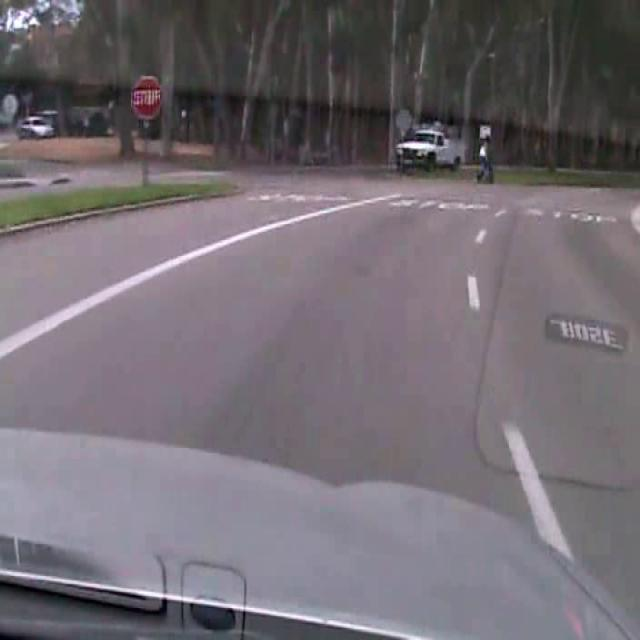stop_sign: (130, 75, 162, 120)
